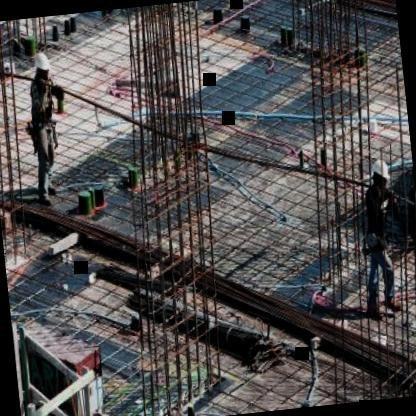helmet: (366, 158, 390, 196), (31, 50, 51, 79)
